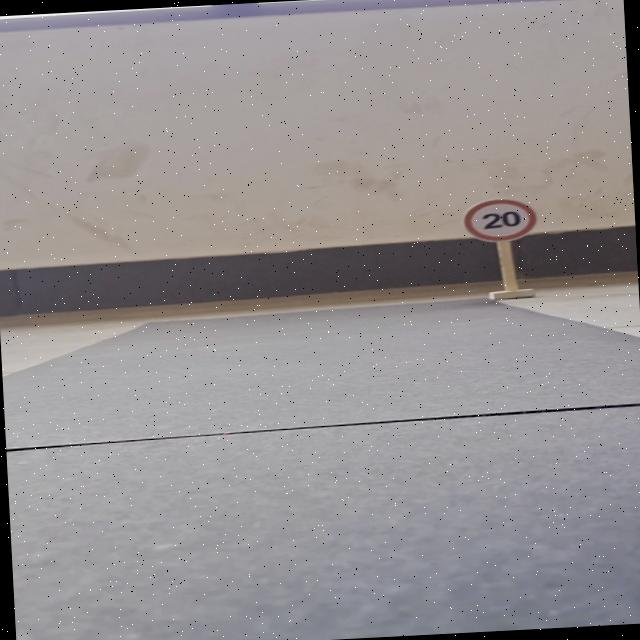Speed20: (458, 192, 542, 248)
